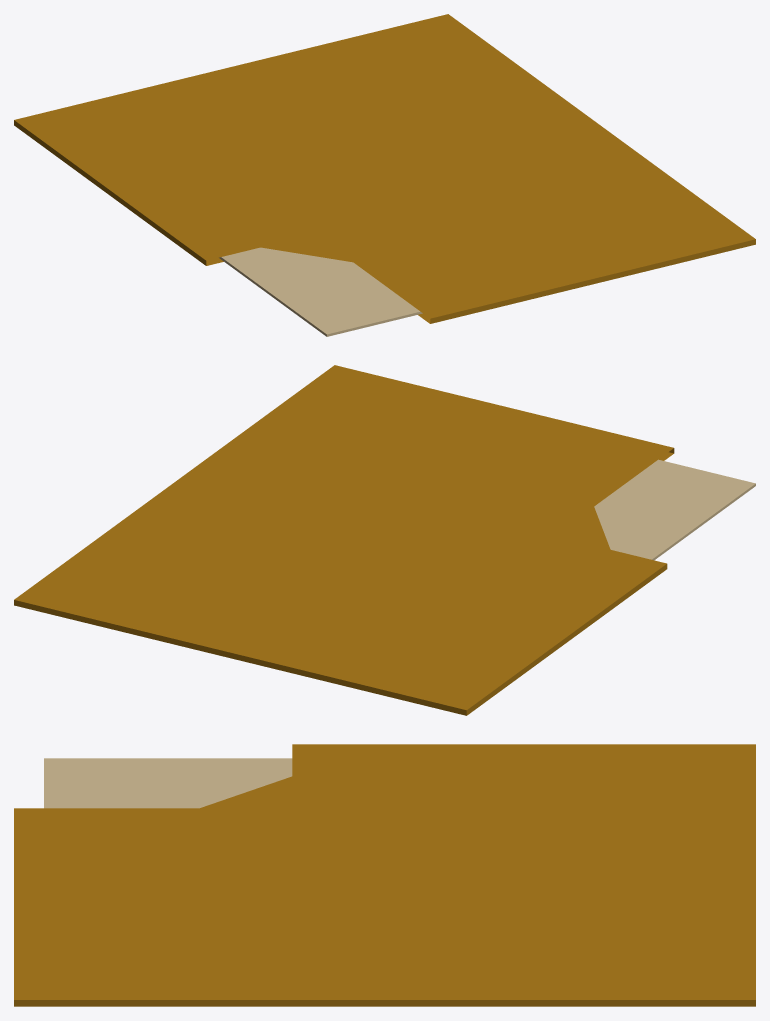
Rendered from folder.fbx.
3 views of the same model, one above another, from view 1: azimuth 30°, elevation 25°; view 2: azimuth 150°, elevation 25°; view 3: azimuth 270°, elevation 25° (orthographic). The views are drawn at different scales.
Parts seen in each view (by area): view 1: folder_mesh, paper_mesh; view 2: folder_mesh, paper_mesh; view 3: folder_mesh, paper_mesh.
Part boxes in pixels (x1,y1,x2,y2): folder_mesh: (14, 14, 755, 323); paper_mesh: (219, 247, 422, 336); folder_mesh: (14, 365, 674, 715); paper_mesh: (594, 459, 755, 560); folder_mesh: (14, 744, 755, 1006); paper_mesh: (44, 758, 292, 808).
Size of the model in its own units: 32.34 by 0.3848 by 39.68.
